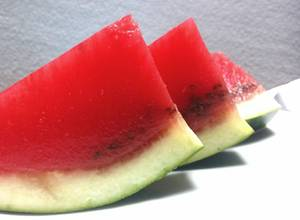Semangka: (1, 14, 168, 216), (154, 13, 247, 158)
